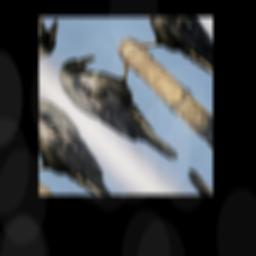Crow: (49, 24, 207, 186)
